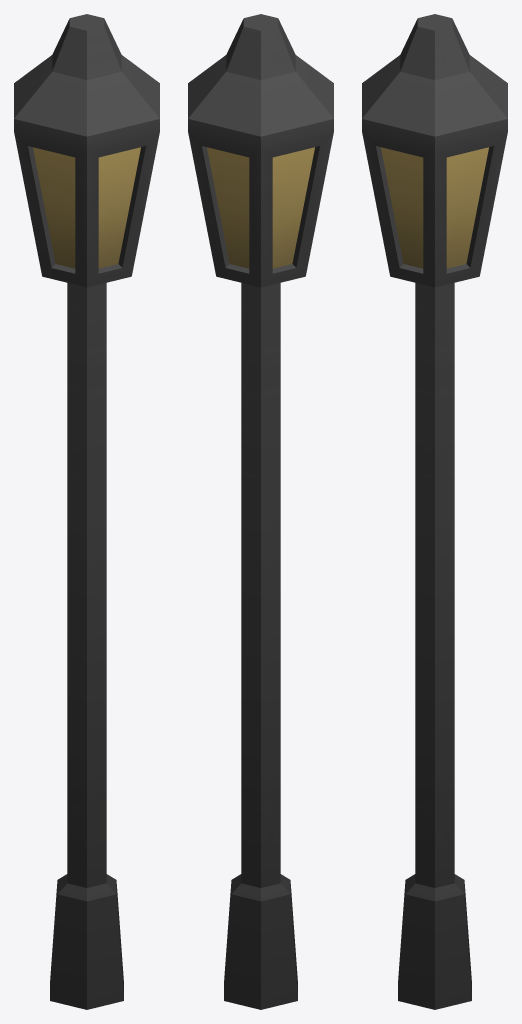
Rendered from lamp.fbx.
The picture shows the model from 3 angles, left to right: view 1: azimuth 30°, elevation 25°; view 2: azimuth 150°, elevation 25°; view 3: azimuth 270°, elevation 25°; orthographic projection.
Visible parts, largest first — view 1: lamp; view 2: lamp; view 3: lamp.
Part boxes in pixels (x1,y1,x2,y2): lamp: (14,14,159,1009); lamp: (188,14,333,1009); lamp: (362,14,507,1009).
Bounding box in the file's own units: 43.55 × 276 × 37.71.
